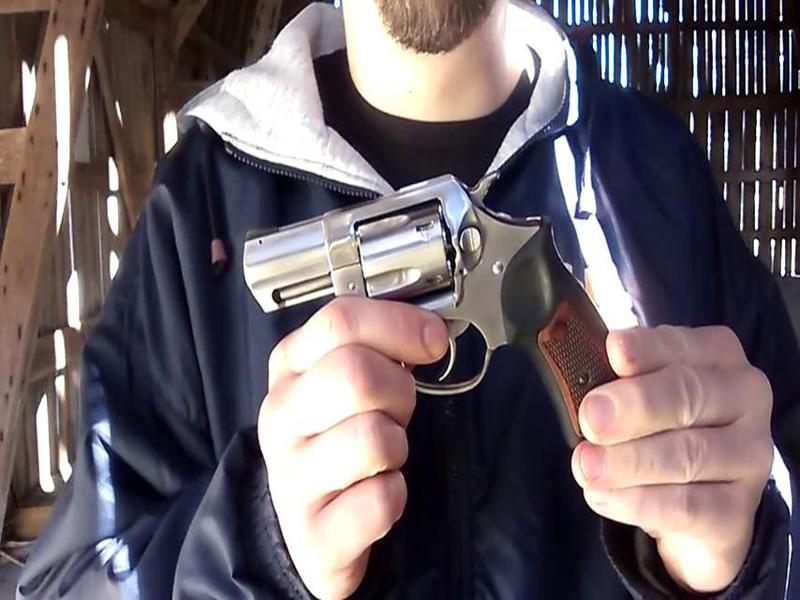Revolver: (237, 183, 634, 459)
